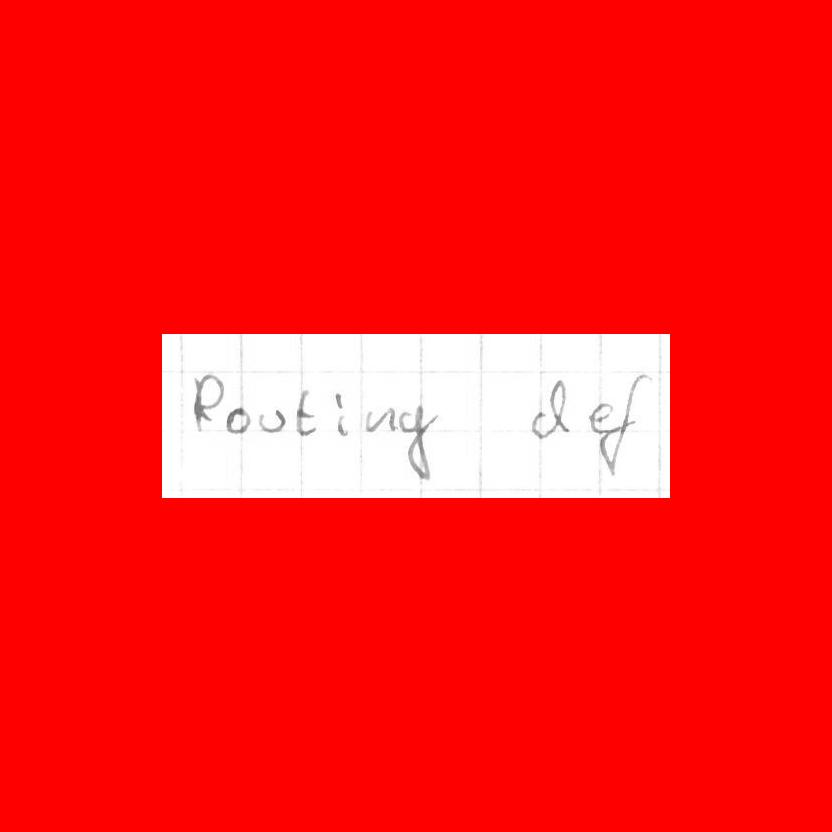Char: (602, 371, 654, 476), (397, 402, 441, 481), (531, 374, 573, 440), (190, 371, 226, 436), (295, 386, 318, 439), (364, 403, 399, 434), (589, 399, 618, 436), (256, 406, 291, 434), (332, 389, 351, 440), (223, 405, 253, 435)
